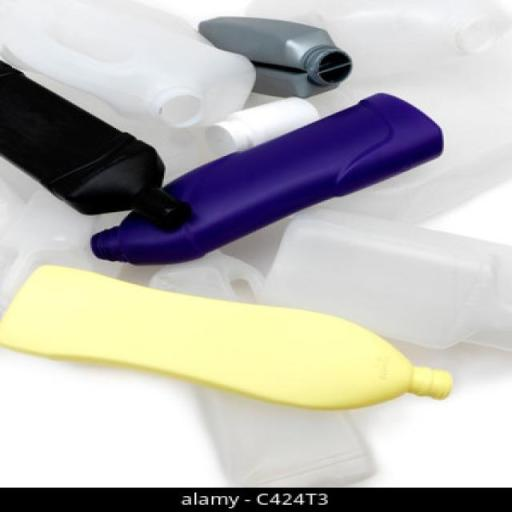plastic: (4, 263, 458, 413), (90, 93, 444, 267), (0, 61, 191, 233)
